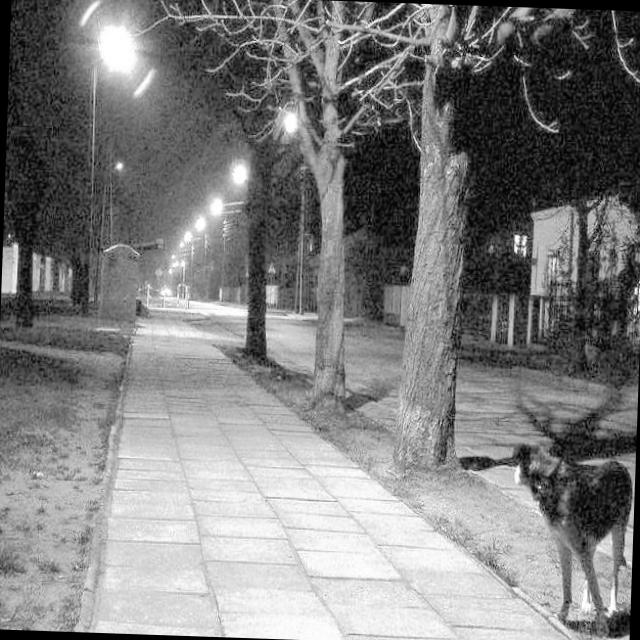Dog: (453, 409, 637, 640)
